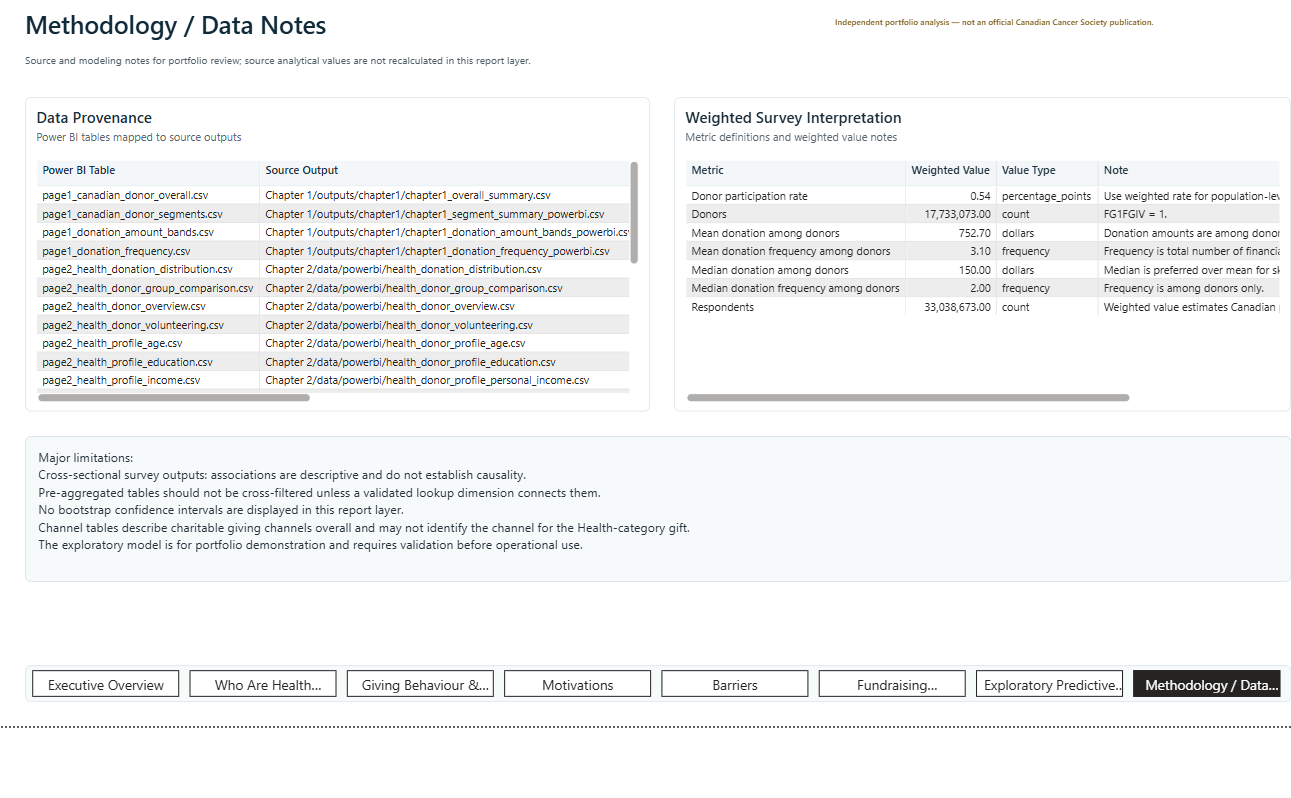

Layout of this report page (visuals, bound fields, positions):
{"tool":"powerbi","page":{"name":"Methodology / Data Notes","canvas":[1280,720],"ordinal":7},"visuals":[{"type":"tableEx","title":"Data Provenance","fields":{"Values":["tbl_powerbi_data_manifest.powerbi_file","tbl_powerbi_data_manifest.source_file","tbl_powerbi_data_manifest.dashboard_page","tbl_powerbi_data_manifest.table_grain","tbl_powerbi_data_manifest.rows","tbl_powerbi_data_manifest.columns"]},"box":[24,108,608,306],"z":2000},{"type":"tableEx","title":"Weighted Survey Interpretation","fields":{"Values":["tbl_page1_canadian_donor_overall.metric","tbl_page1_canadian_donor_overall.weighted_value","tbl_page1_canadian_donor_overall.value_type","tbl_page1_canadian_donor_overall.note"]},"box":[656,108,600,306],"z":2000},{"type":"pageNavigator","box":[24,660,1232,36],"z":2000},{"type":"textbox","box":[24,20,700,42],"z":3000},{"type":"textbox","box":[812,24,430,38],"z":3000},{"type":"textbox","box":[24,62,850,34],"z":3000},{"type":"textbox","box":[24,438,1232,142],"z":3000}]}

Visuals, with their boxes on the page's 1280x720 design canvas (x1, y1, x2, y2). These are canvas units, not pixel positions in the 1291x798 screenshot, which may show the page scaled, cropped or inside an application window:
"Data Provenance" tableEx: box(24, 108, 632, 414)
"Weighted Survey Interpretation" tableEx: box(656, 108, 1256, 414)
pageNavigator: box(24, 660, 1256, 696)
textbox: box(24, 20, 724, 62)
textbox: box(812, 24, 1242, 62)
textbox: box(24, 62, 874, 96)
textbox: box(24, 438, 1256, 580)
